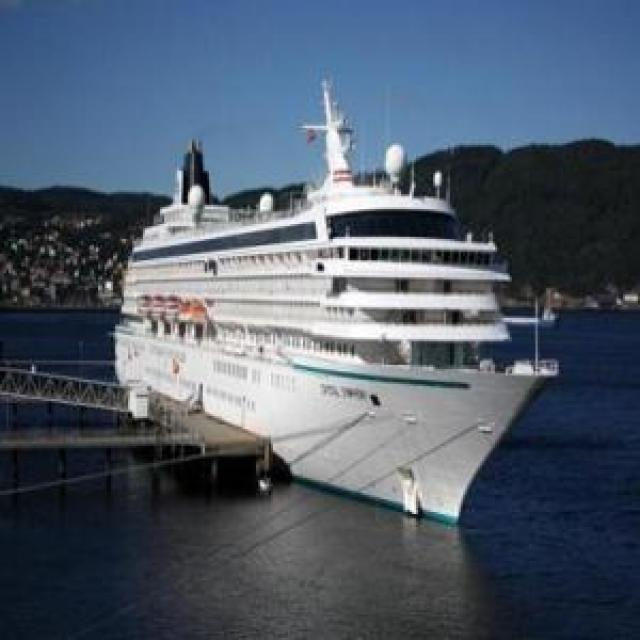passenger ship: (110, 115, 546, 531)
